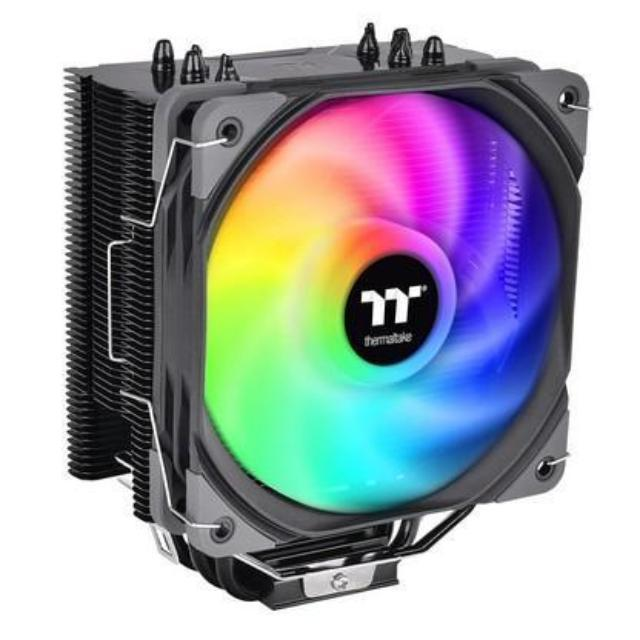CPU_Fan: (60, 21, 586, 596)
